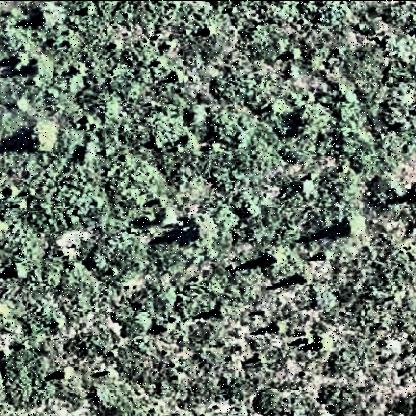tree-top: (27, 124, 59, 154), (184, 217, 214, 246), (287, 105, 313, 131), (257, 247, 282, 272), (337, 216, 362, 238), (31, 53, 51, 75), (38, 3, 57, 25)
